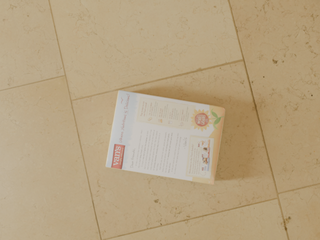box: (106, 90, 225, 185)
